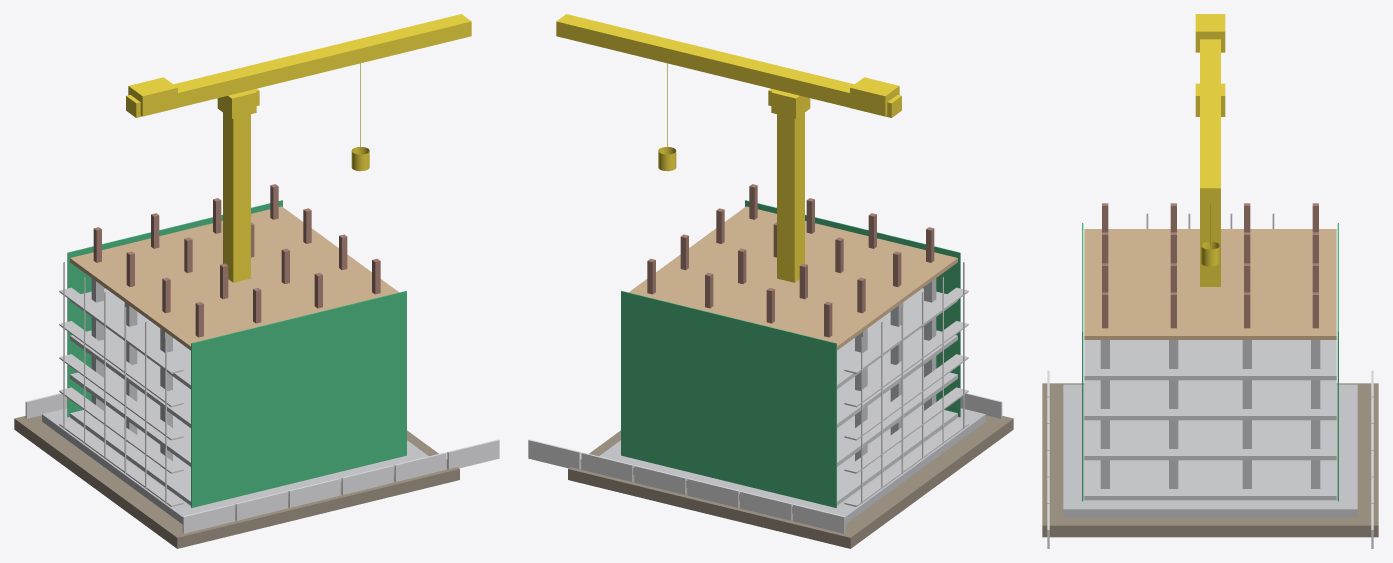
The model's file is highrise_under_construction.glb.
3 views of the same model, side by side, from view 1: azimuth 30°, elevation 25°; view 2: azimuth 150°, elevation 25°; view 3: azimuth 270°, elevation 25° (orthographic). The views are drawn at different scales.
Visible parts, largest first — view 1: SafetyNettingSouth, FloorSlab_5_Formwork, CraneJib, FoundationEarth, TowerCraneMast, ConcreteRaftFoundation, SafetyNettingNorth, FloorSlab_1, FloorSlab_2, FloorSlab_3, FloorSlab_4, ScaffoldDeck_1 (+11 smaller); view 2: SafetyNettingNorth, FloorSlab_5_Formwork, CraneJib, FoundationEarth, TowerCraneMast, ConcreteRaftFoundation, SafetyNettingSouth, FloorSlab_1, FloorSlab_2, FloorSlab_3, FloorSlab_4, ScaffoldDeck_1 (+11 smaller); view 3: FloorSlab_5_Formwork, FoundationEarth, ConcreteRaftFoundation, FloorSlab_1, FloorSlab_2, FloorSlab_3, FloorSlab_4, CraneJib, TowerCraneMast, SafetyNettingNorth, SafetyNettingSouth.
Boxes of the visible parts, x1,y1,x2,y2 form: SafetyNettingSouth: (191, 291, 406, 507); FloorSlab_5_Formwork: (70, 206, 398, 350); CraneJib: (126, 14, 471, 171); FoundationEarth: (14, 415, 459, 548); TowerCraneMast: (223, 112, 250, 282); ConcreteRaftFoundation: (42, 408, 428, 524); SafetyNettingNorth: (67, 200, 282, 417); FloorSlab_1: (70, 405, 190, 505); FloorSlab_2: (70, 366, 190, 466); FloorSlab_3: (70, 327, 190, 427); FloorSlab_4: (70, 288, 190, 389); ScaffoldDeck_1: (59, 387, 183, 473); SafetyNettingNorth: (621, 291, 836, 507); FloorSlab_5_Formwork: (629, 206, 957, 350); CraneJib: (556, 14, 901, 171); FoundationEarth: (568, 415, 1013, 548); TowerCraneMast: (777, 112, 804, 282); ConcreteRaftFoundation: (599, 408, 985, 524); SafetyNettingSouth: (745, 200, 960, 417); FloorSlab_1: (837, 405, 957, 505); FloorSlab_2: (837, 366, 957, 466); FloorSlab_3: (837, 327, 957, 427); FloorSlab_4: (837, 288, 957, 389); ScaffoldDeck_1: (844, 387, 968, 473); FloorSlab_5_Formwork: (1084, 229, 1336, 339); FoundationEarth: (1042, 383, 1378, 537); ConcreteRaftFoundation: (1063, 384, 1357, 516); FloorSlab_1: (1084, 460, 1336, 500); FloorSlab_2: (1084, 420, 1336, 460); FloorSlab_3: (1084, 380, 1336, 420); FloorSlab_4: (1084, 340, 1336, 380); CraneJib: (1195, 14, 1225, 266); TowerCraneMast: (1200, 203, 1220, 286); SafetyNettingNorth: (1337, 223, 1338, 501); SafetyNettingSouth: (1082, 223, 1083, 501).
Size of the model in its own units: 42 by 42.05 by 32.
